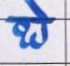e_matra: (24, 0, 49, 18)
